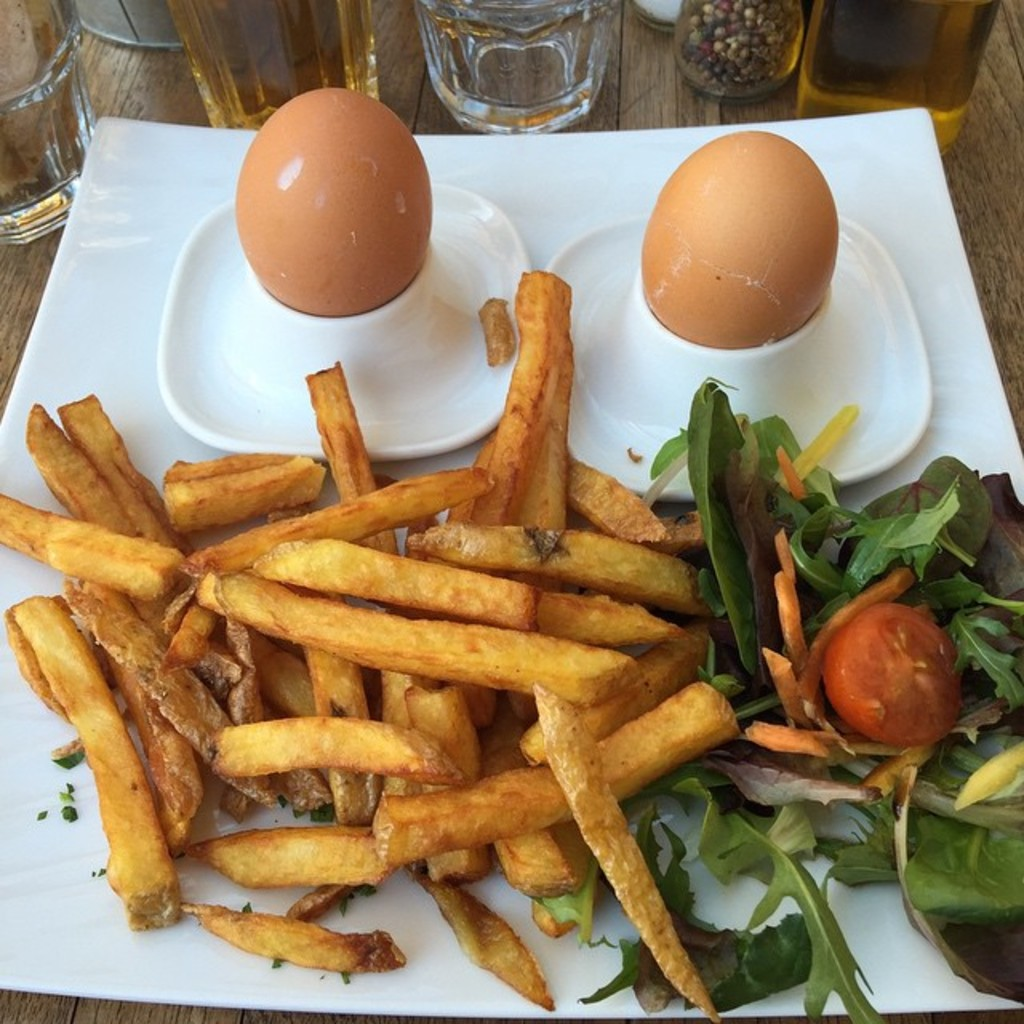French fries: (0, 267, 736, 1022)
